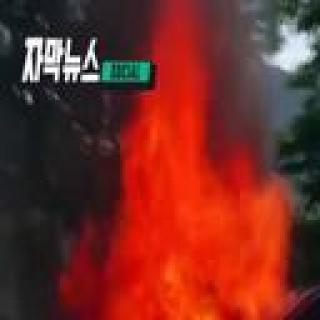fire: (99, 88, 250, 320)
